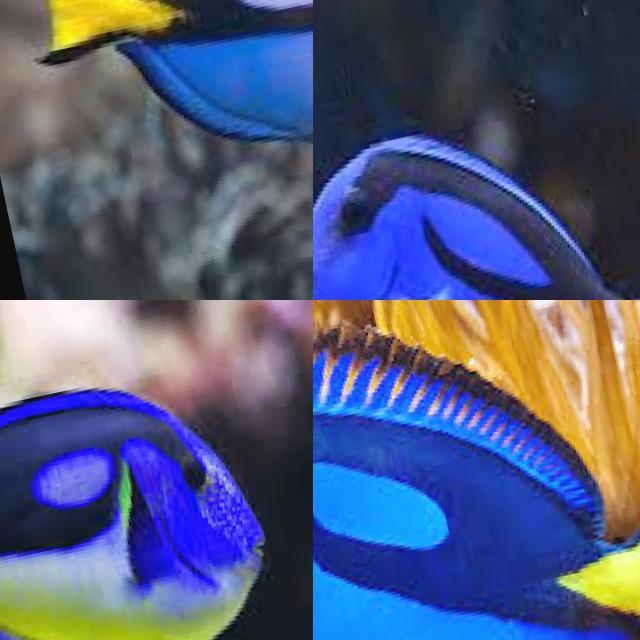BlueTang: (313, 323, 631, 640), (0, 387, 266, 640), (313, 140, 609, 300), (43, 0, 313, 145)
